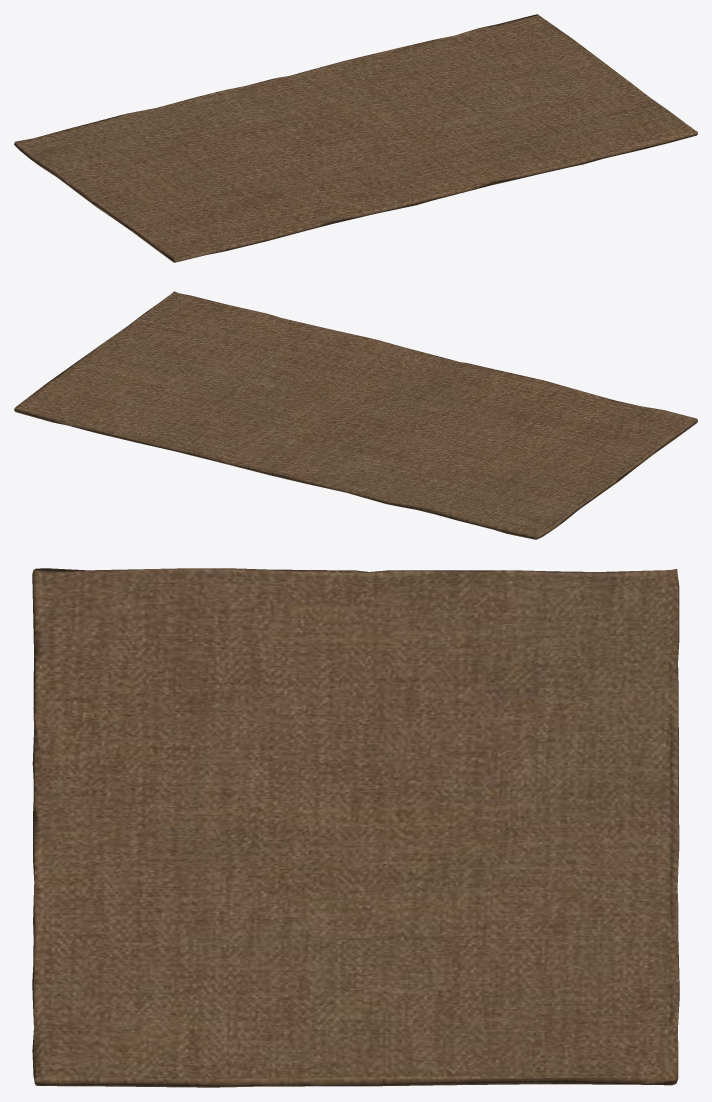
Rendered from 33 - LYDERSHOLM Rug flatwoven, inoutdoor - medium brown 80x150 cm.glb.
3 renders of one model, top to bottom at view 1: azimuth 30°, elevation 25°; view 2: azimuth 150°, elevation 25°; view 3: azimuth 270°, elevation 25°, orthographic. The views are drawn at different scales.
Visible parts, largest first — view 1: ASY_ART_50495391_S01_NV01; view 2: ASY_ART_50495391_S01_NV01; view 3: ASY_ART_50495391_S01_NV01.
Part boxes in pixels (x1=…): ASY_ART_50495391_S01_NV01: x1=14, y1=14, x2=697, y2=262; ASY_ART_50495391_S01_NV01: x1=14, y1=291, x2=697, y2=539; ASY_ART_50495391_S01_NV01: x1=32, y1=568, x2=679, y2=1087.
Bounding box in the file's own units: 1.5 × 0.0174 × 0.8012.
Materials: 1 (1 with a texture image).
